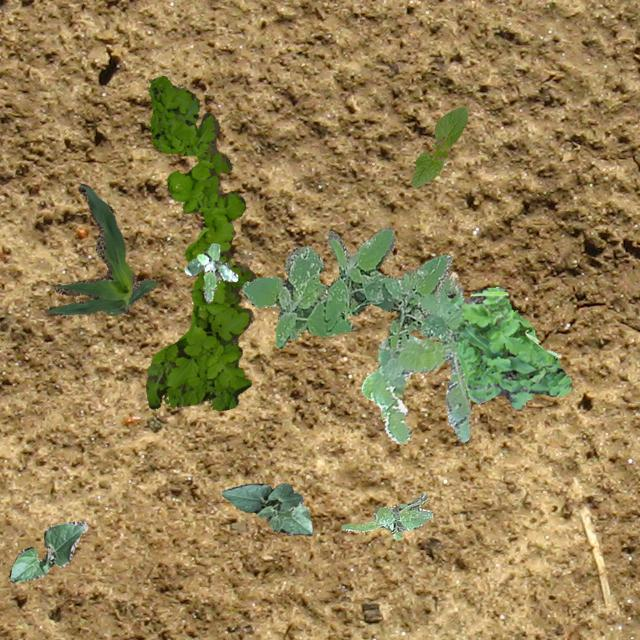crop: (46, 182, 156, 316), (8, 520, 86, 582), (220, 482, 312, 534), (411, 106, 466, 186)
weed: (144, 74, 254, 410), (240, 225, 452, 348), (360, 275, 470, 443), (446, 286, 570, 408), (339, 492, 432, 538), (182, 242, 236, 300)
